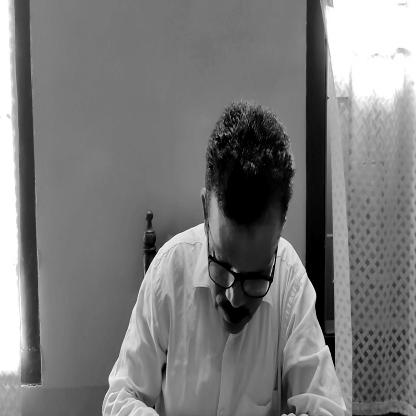Normal: (193, 113, 294, 328)
